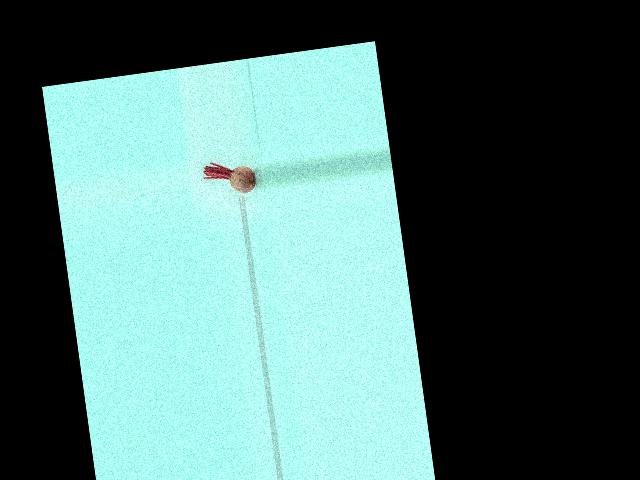beet: (201, 157, 257, 198)
